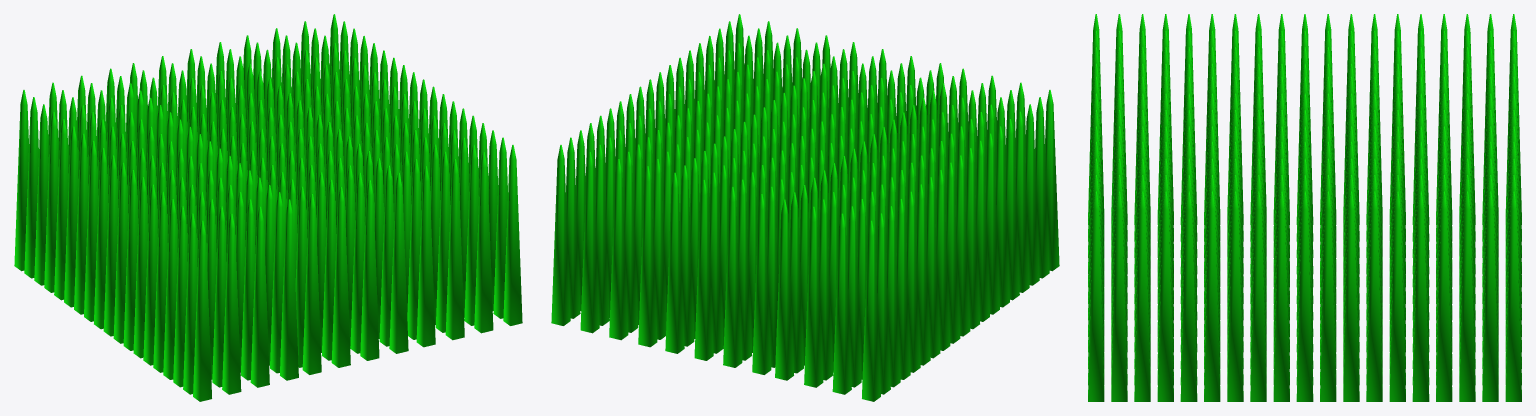
Rendered from broto-level-2.fbx.
3 views of the same model, side by side, from view 1: azimuth 30°, elevation 25°; view 2: azimuth 150°, elevation 25°; view 3: azimuth 270°, elevation 25° (orthographic). The views are drawn at different scales.
Parts seen in each view (by area): view 1: broto; view 2: broto; view 3: broto.
Boxes of the visible parts, left/top/right/bottom form: broto: left=14, top=14, right=522, bottom=401; broto: left=551, top=14, right=1059, bottom=401; broto: left=1088, top=14, right=1521, bottom=401.
Size of the model in its own units: 1877 by 985 by 1870.
